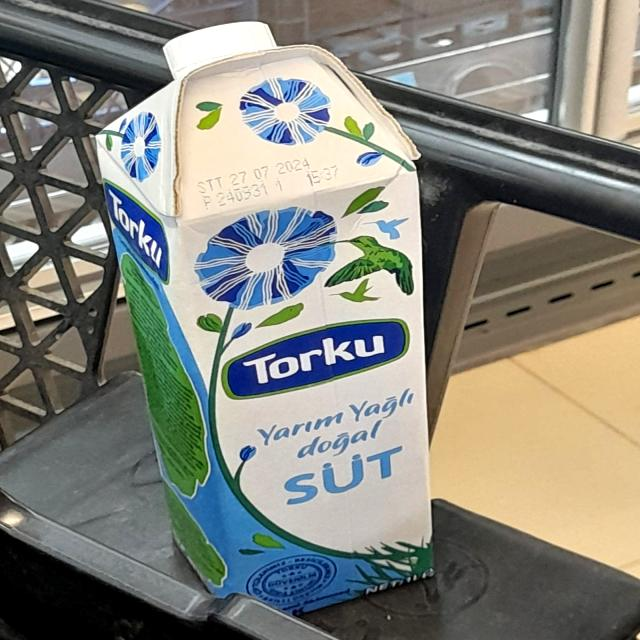milk: (82, 14, 474, 613)
